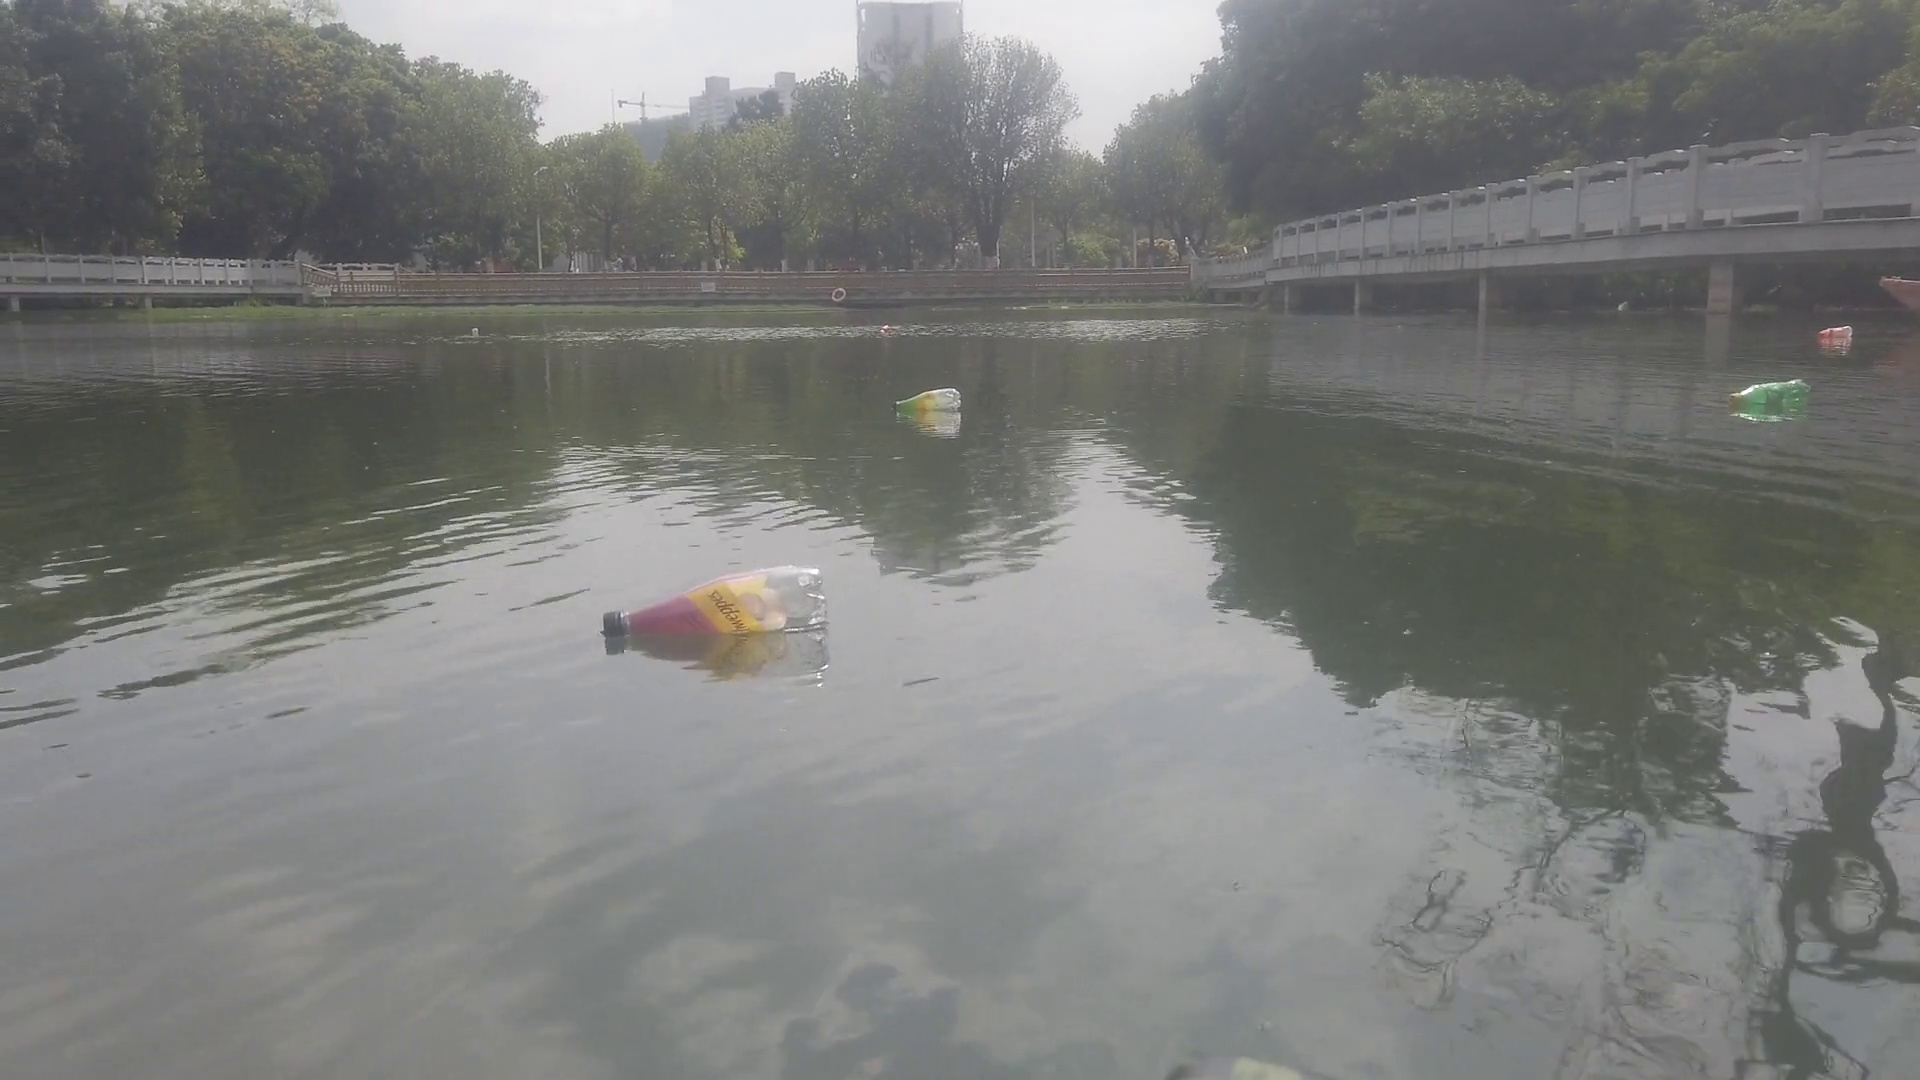bottle: (607, 564, 835, 640), (1726, 376, 1818, 410), (890, 385, 964, 415), (1815, 323, 1854, 342), (878, 323, 891, 338), (469, 326, 483, 339)
